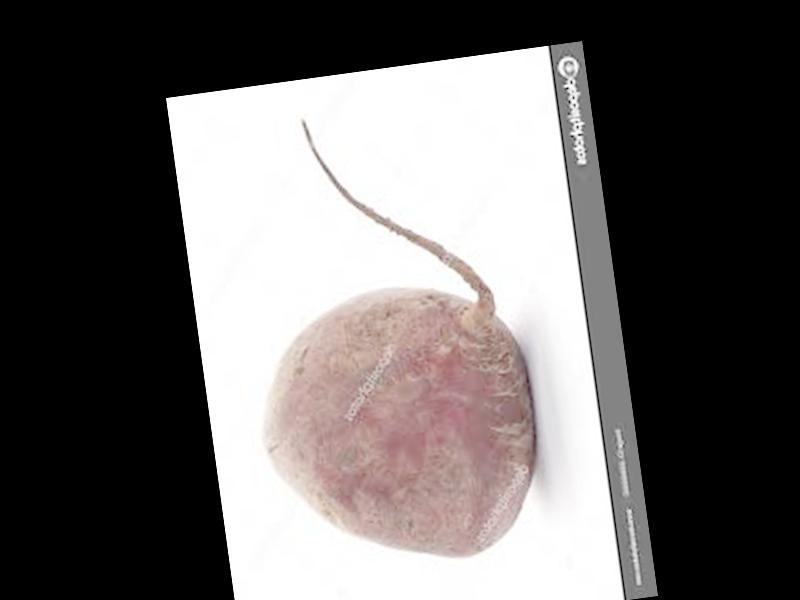Beet: (225, 95, 551, 581)
